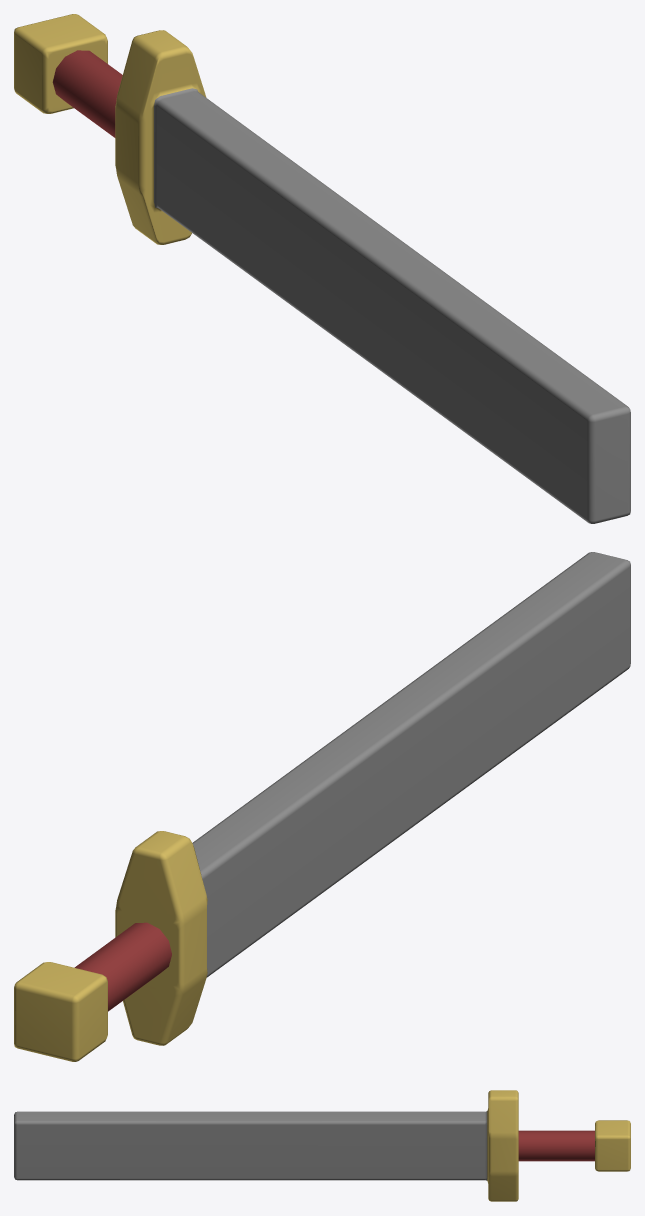
The model's file is Sword02.fbx.
3 views of the same model, one above another, from view 1: azimuth 30°, elevation 25°; view 2: azimuth 150°, elevation 25°; view 3: azimuth 270°, elevation 25° (orthographic). The views are drawn at different scales.
Parts seen in each view (by area): view 1: Sword03; view 2: Sword03; view 3: Sword03.
Part boxes in pixels (bbox=[...]): Sword03: bbox=[14, 14, 630, 523]; Sword03: bbox=[14, 552, 630, 1061]; Sword03: bbox=[14, 1090, 630, 1201].
Size of the model in its own units: 4.01 by 10.8 by 57.49.
